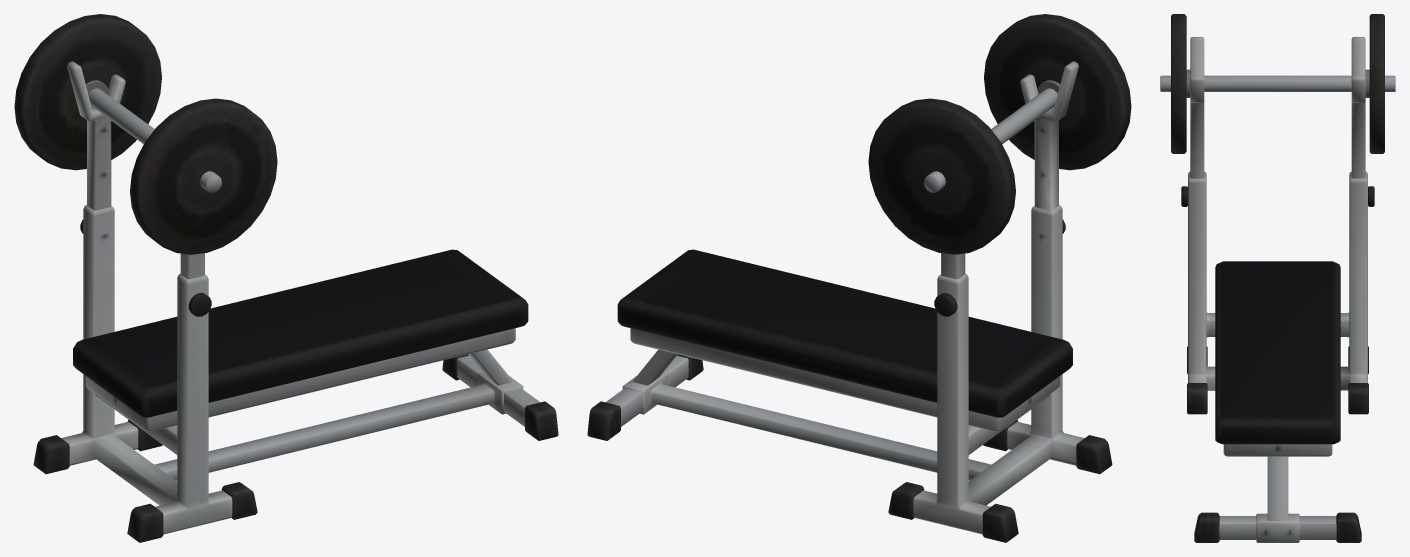
Rendered from weight-bench.glb.
3 views of the same model, side by side, from view 1: azimuth 30°, elevation 25°; view 2: azimuth 150°, elevation 25°; view 3: azimuth 270°, elevation 25° (orthographic). The views are drawn at different scales.
Visible parts, largest first — view 1: mBody, bar; view 2: mBody, bar; view 3: mBody, bar.
Part boxes in pixels (x1,y1,x2,y2): mBody: (33, 61, 558, 542); bar: (14, 14, 277, 254); mBody: (587, 61, 1112, 542); bar: (868, 14, 1131, 254); mBody: (1181, 37, 1374, 542); bar: (1160, 14, 1395, 153).
Bounding box in the file's own units: 18.32 × 17.25 × 9.95.
1 material, 1 textured.
